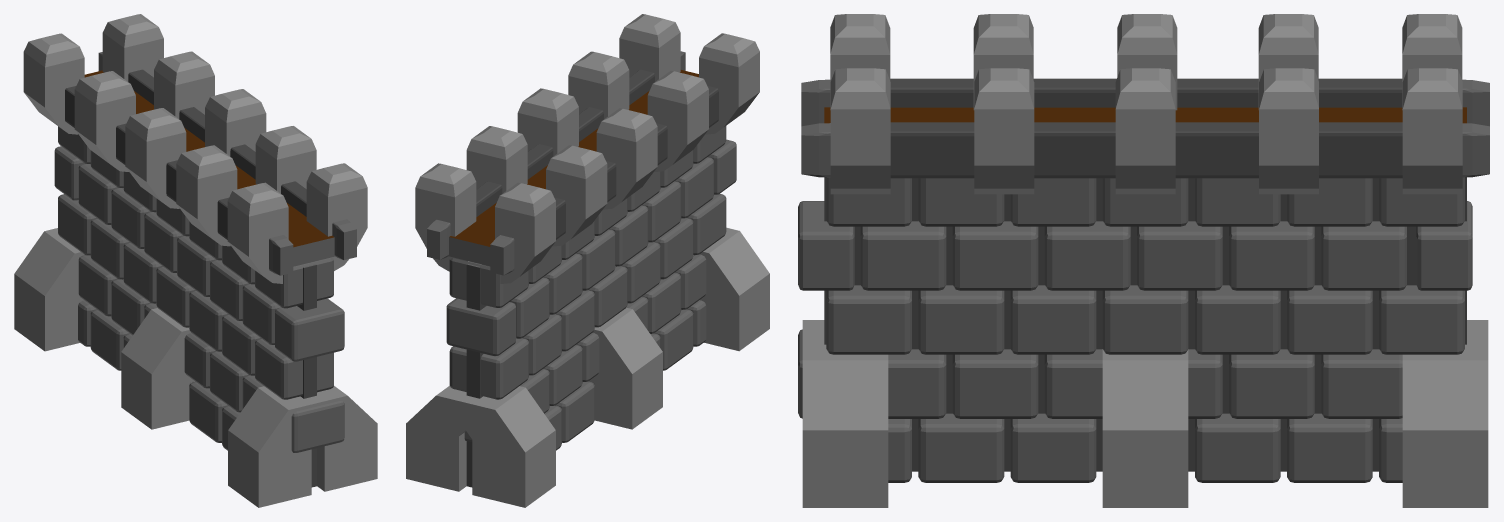
The model's file is muralha.fbx.
3 views of the same model, side by side, from view 1: azimuth 30°, elevation 25°; view 2: azimuth 150°, elevation 25°; view 3: azimuth 270°, elevation 25° (orthographic). The views are drawn at different scales.
Parts seen in each view (by area): view 1: Cube.056; view 2: Cube.056; view 3: Cube.056.
Part boxes in pixels (x1,y1,x2,y2): Cube.056: [14, 14, 377, 507]; Cube.056: [406, 14, 769, 507]; Cube.056: [798, 14, 1489, 507].
Size of the model in its own units: 450 by 1081 by 1614.
